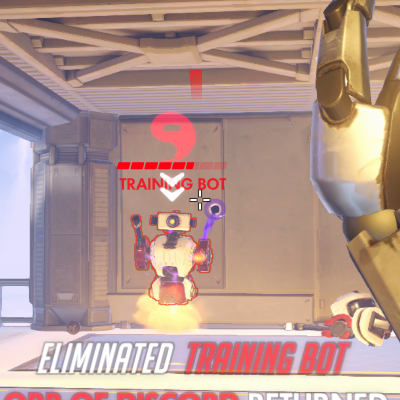hpbar: (116, 161, 228, 170)
